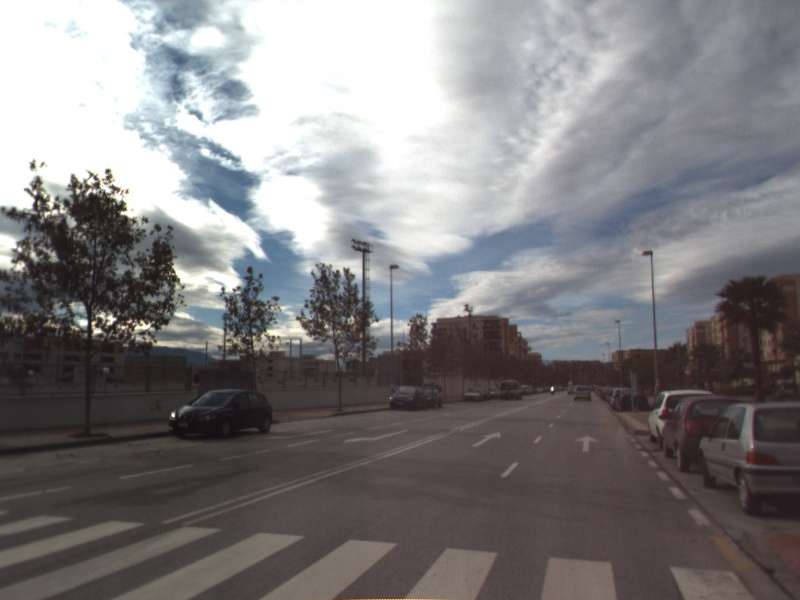STRAIGHT: (469, 429, 503, 449), (574, 433, 601, 453)
